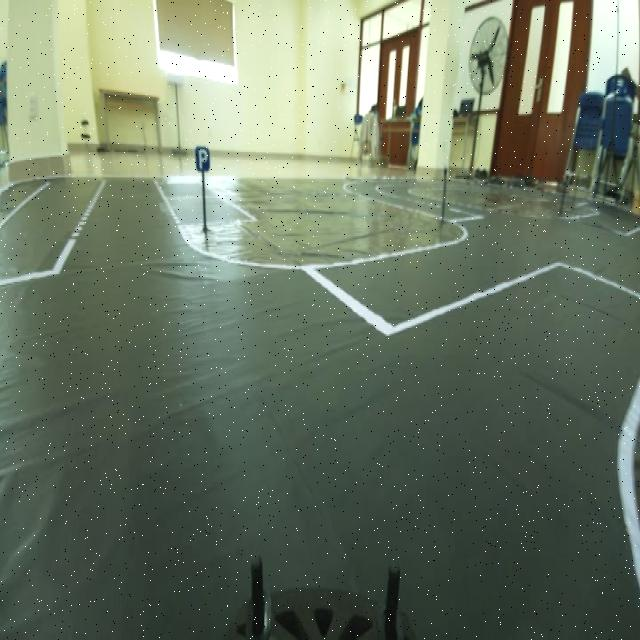parking: (188, 140, 214, 174)
